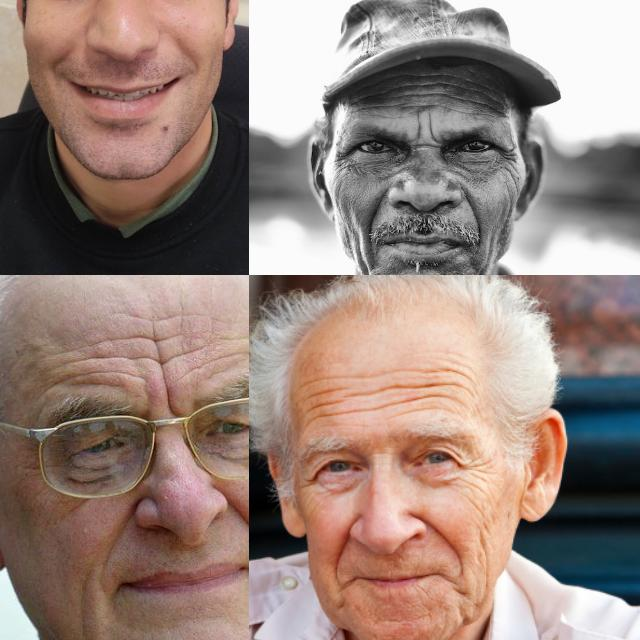chin: (378, 612, 426, 628)
crows_feet: (497, 142, 521, 178), (454, 451, 484, 479), (334, 148, 358, 172), (296, 472, 320, 492)
forehead: (64, 342, 146, 384), (153, 331, 215, 373), (422, 66, 462, 105), (410, 376, 458, 408), (467, 78, 499, 118), (428, 356, 469, 384), (304, 387, 332, 421), (346, 380, 398, 396), (390, 71, 418, 97), (358, 84, 380, 110)
frown_line: (409, 114, 439, 150), (157, 379, 180, 415)
gummy_smile: (102, 508, 134, 560), (423, 514, 462, 556), (223, 491, 249, 544), (362, 194, 388, 242), (178, 42, 212, 78), (463, 192, 487, 234), (334, 523, 354, 571), (50, 44, 72, 76)
masseter: (70, 573, 97, 640), (472, 527, 492, 571), (352, 249, 373, 275)
sad_smile: (451, 578, 472, 608)
